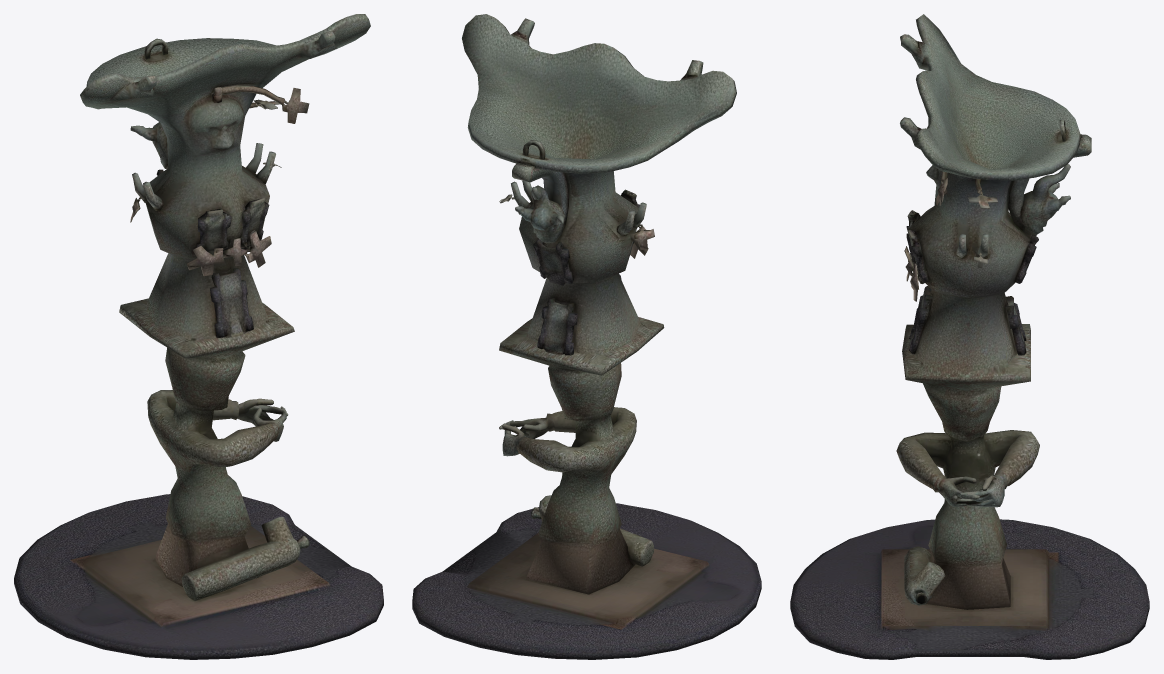
File: second-bronze-ritual-vessel.glb
3 views of the same model, side by side, from view 1: azimuth 30°, elevation 25°; view 2: azimuth 150°, elevation 25°; view 3: azimuth 270°, elevation 25° (orthographic). The views are drawn at different scales.
Visible parts, largest first — view 1: second-bronze-ritual-vessel; view 2: second-bronze-ritual-vessel; view 3: second-bronze-ritual-vessel.
Part boxes in pixels (x1,y1,x2,y2): second-bronze-ritual-vessel: (14, 14, 383, 659); second-bronze-ritual-vessel: (412, 14, 761, 659); second-bronze-ritual-vessel: (790, 14, 1149, 659).
Bounding box in the file's own units: 0.584 × 0.998 × 0.6152.
1 material, 1 textured.
